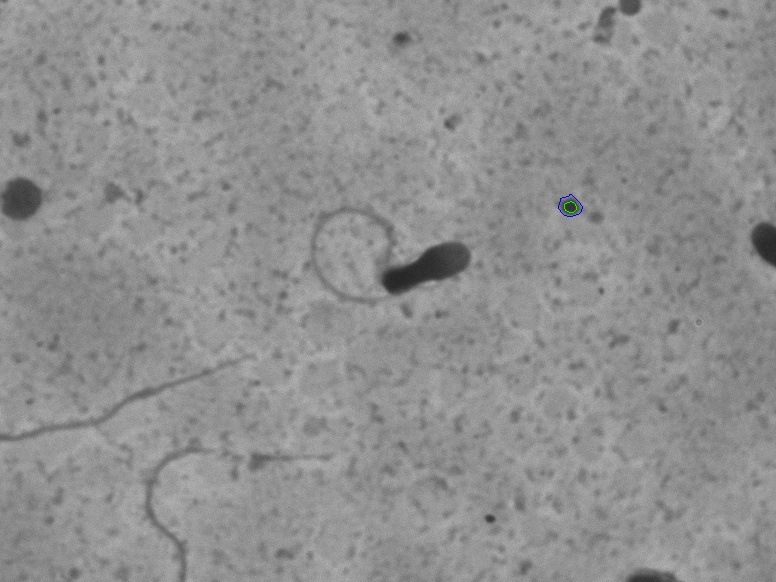Abnormal: (287, 179, 491, 334)
